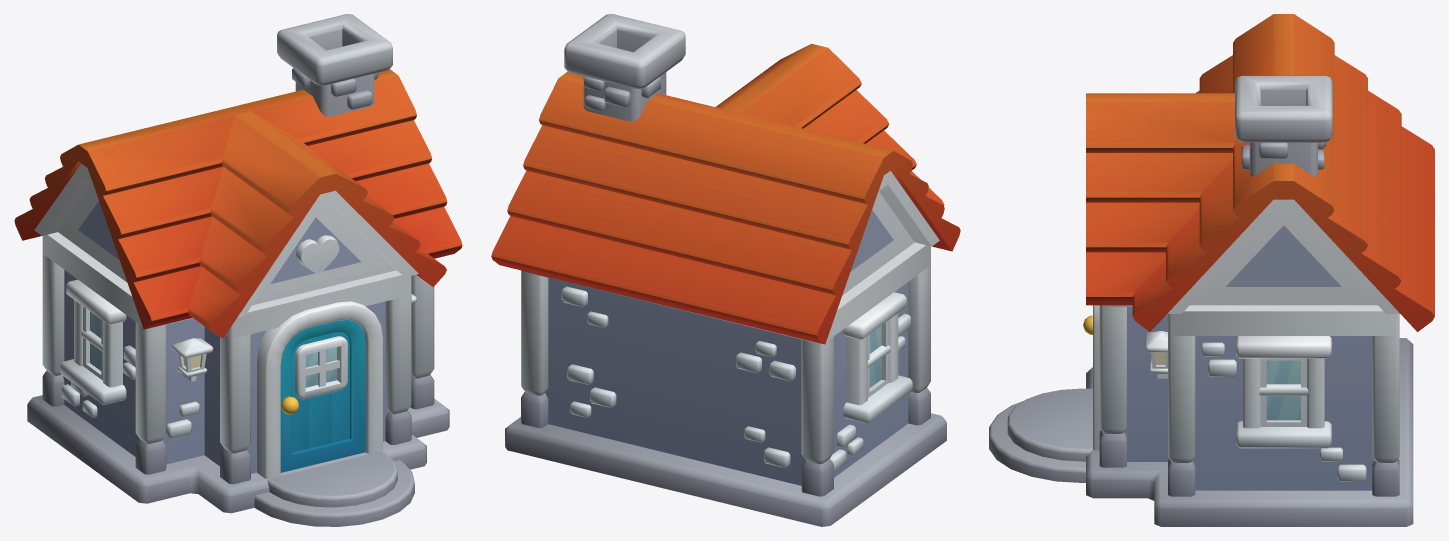
The model's file is homely-house-B4EOwNGl.glb.
3 views of the same model, side by side, from view 1: azimuth 30°, elevation 25°; view 2: azimuth 150°, elevation 25°; view 3: azimuth 270°, elevation 25° (orthographic). The views are drawn at different scales.
Parts seen in each view (by area): view 1: house; view 2: house; view 3: house.
Part boxes in pixels (x1,y1,x2,y2): house: [14, 14, 462, 526]; house: [491, 14, 960, 526]; house: [989, 14, 1434, 526].
Size of the model in its own units: 5.9 by 6.5 by 6.54.
1 material, 1 textured.
